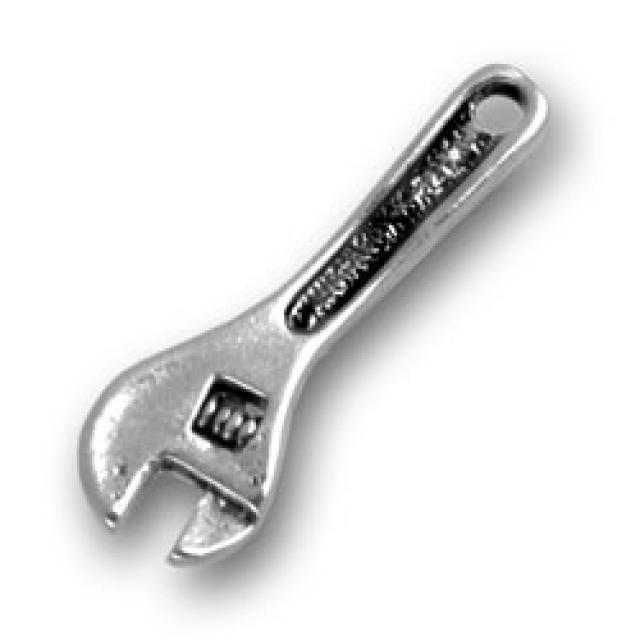wrench: (66, 52, 554, 572)
